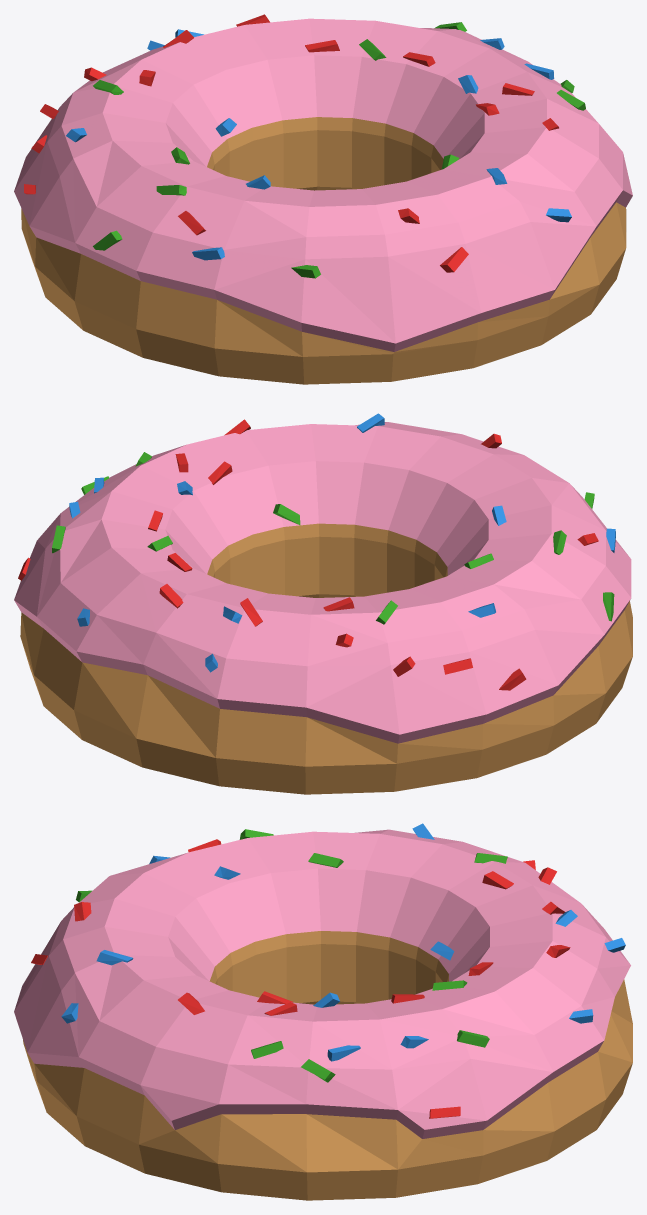
File: Donut1.obj
The picture shows the model from 3 angles, top to bottom: view 1: azimuth 30°, elevation 25°; view 2: azimuth 150°, elevation 25°; view 3: azimuth 270°, elevation 25°; orthographic projection.
Parts seen in each view (by area): view 1: Donut1_PalePink, Donut1_LightYellow, Donut1_Red, Donut1_Blue, Donut1_Green; view 2: Donut1_PalePink, Donut1_LightYellow, Donut1_Red, Donut1_Green, Donut1_Blue; view 3: Donut1_PalePink, Donut1_LightYellow, Donut1_Red, Donut1_Blue, Donut1_Green.
Boxes of the visible parts, <box> form: Donut1_PalePink: <box>14,18,632,351</box>; Donut1_LightYellow: <box>21,117,626,384</box>; Donut1_Red: <box>24,14,558,272</box>; Donut1_Blue: <box>66,29,571,260</box>; Donut1_Green: <box>93,22,585,278</box>; Donut1_PalePink: <box>14,422,631,743</box>; Donut1_LightYellow: <box>20,523,632,794</box>; Donut1_Red: <box>18,419,598,690</box>; Donut1_Green: <box>52,452,614,624</box>; Donut1_Blue: <box>69,413,615,672</box>; Donut1_PalePink: <box>14,829,630,1138</box>; Donut1_LightYellow: <box>23,931,632,1200</box>; Donut1_Red: <box>31,839,570,1118</box>; Donut1_Blue: <box>61,823,625,1061</box>; Donut1_Green: <box>76,829,507,1082</box>.
Bounding box in the file's own units: 0.8591 × 0.2914 × 0.8698.
